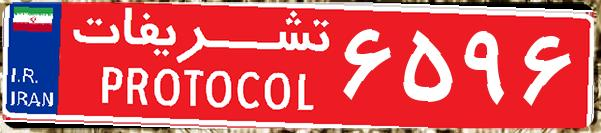5: (400, 20, 460, 115)
6: (340, 20, 400, 115), (520, 20, 580, 115)
9: (460, 20, 520, 115)
تشریفات: (60, 8, 340, 125)
